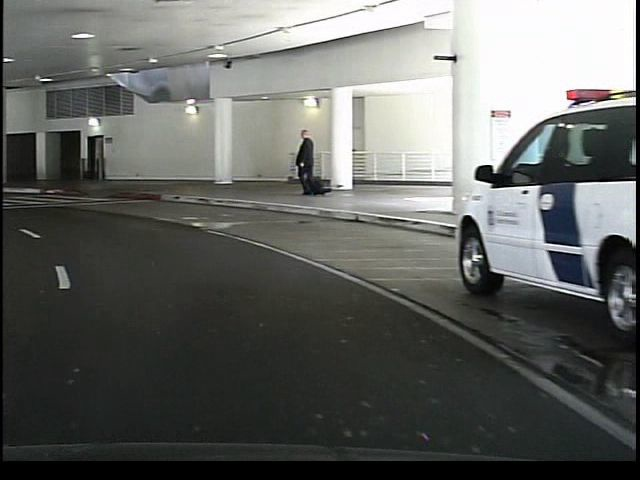person: (288, 127, 324, 203)
